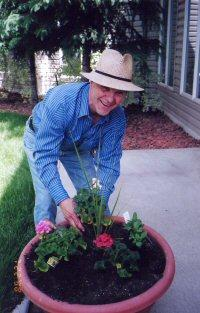person: (24, 48, 127, 236)
